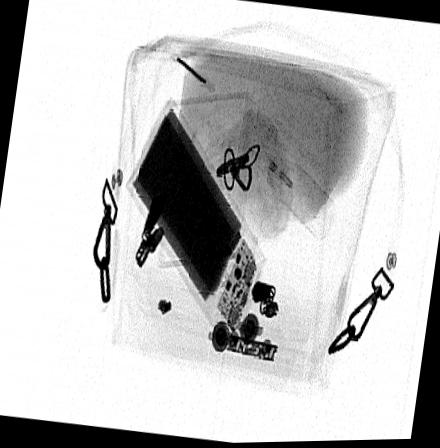Powerbank: (125, 100, 267, 338)
